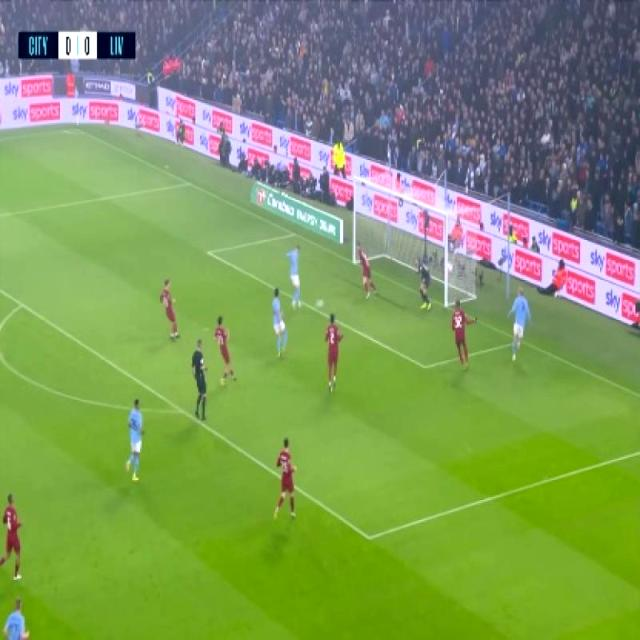bigarea_bottom_inner: (362, 524, 376, 550)
bigarea_top_outter: (182, 177, 192, 190)
bottom_arc_area_intersection: (175, 404, 185, 418)
corner: (68, 126, 80, 134)
smallarea_bottom_inner: (417, 357, 431, 375)
smallarea_top_inner: (202, 245, 215, 260)
smallarea_top_outter: (289, 230, 299, 240)
top_arc_area_intersection: (15, 298, 25, 312)
